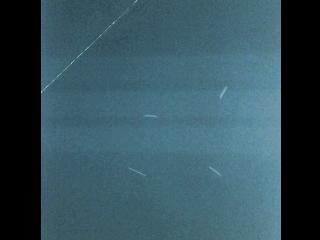crack: (40, 0, 140, 93)
scratch: (124, 161, 150, 182), (214, 78, 233, 106), (205, 162, 227, 179), (141, 108, 161, 124)
